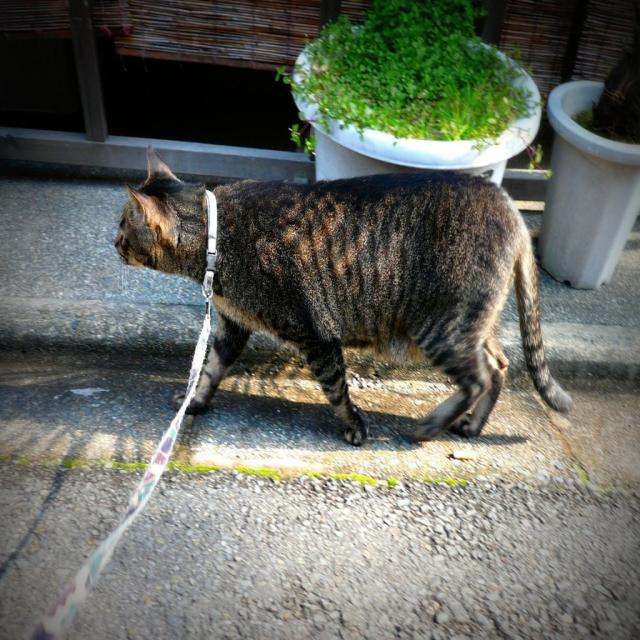Cat: (110, 145, 574, 446)
